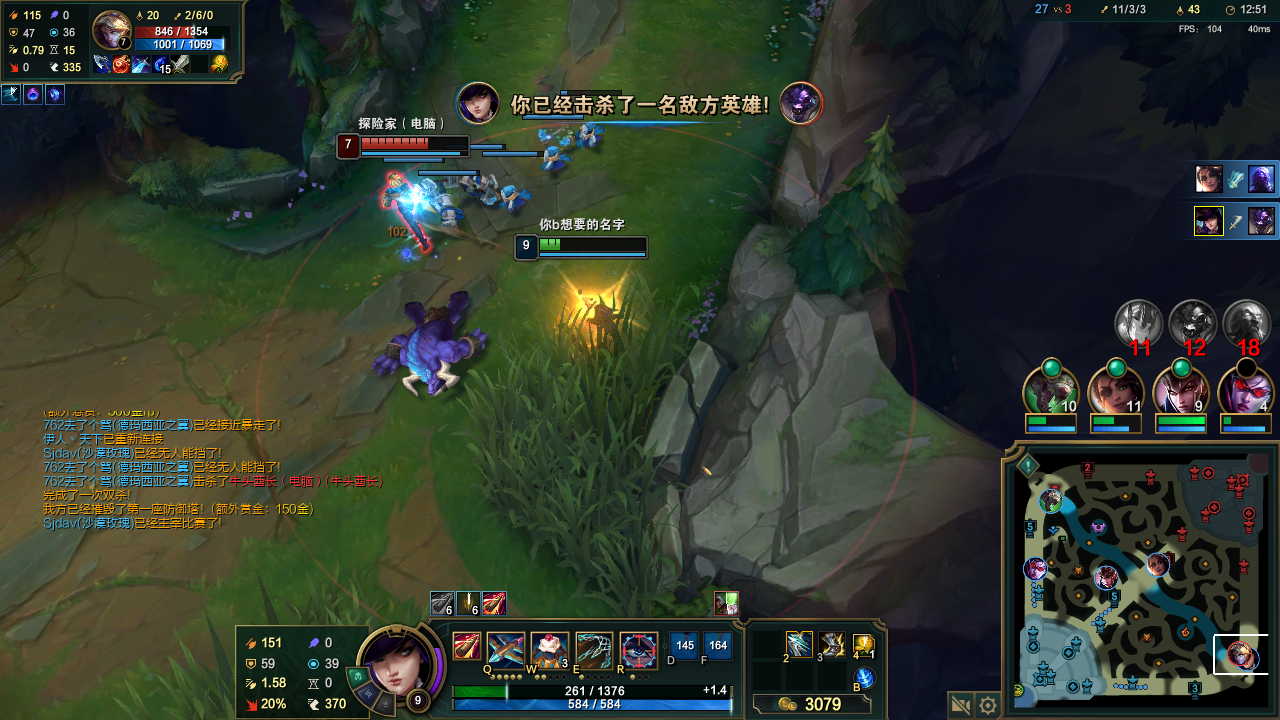DFYX: (358, 135, 458, 152)
WFXB: (499, 184, 547, 216), (538, 141, 579, 175), (467, 172, 501, 202), (436, 187, 465, 222), (581, 117, 610, 150)
